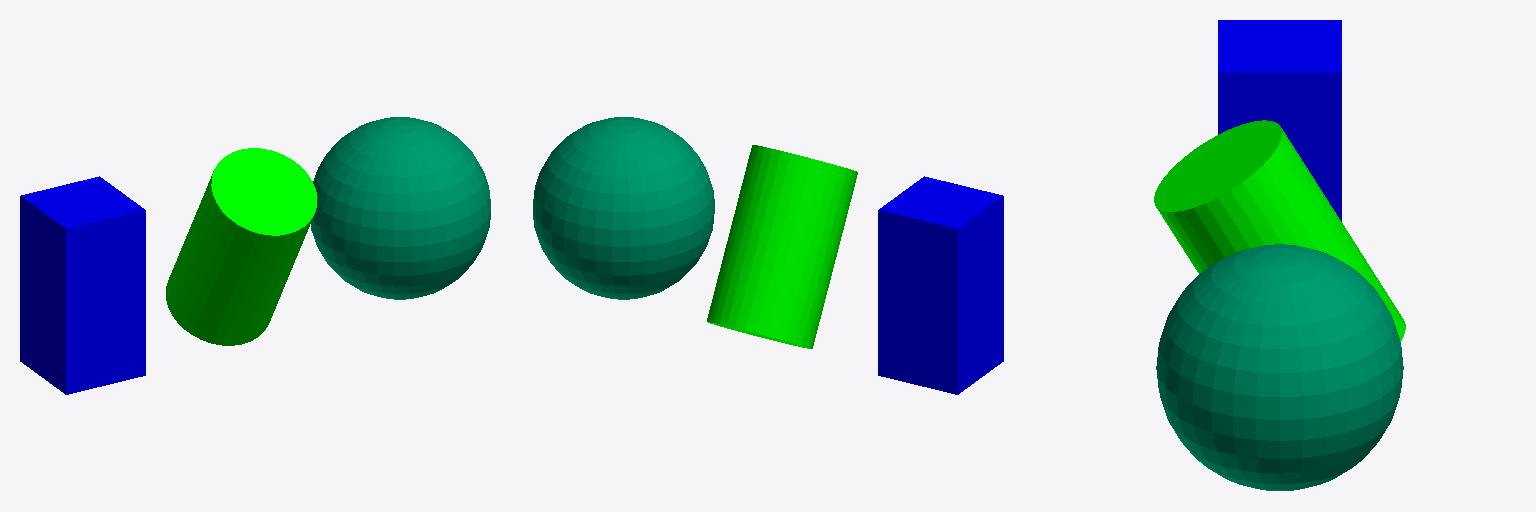
robot.urdf — simple-primitives:
<?xml version="1.0"?>
<!-- The robot name is used as the usd file name. -->
<!-- Since '-' cannot be used as a usd prim name, the prim name will be replaced. -->
<robot name="simple-primitives">
  <material name="blue">
    <color rgba="0.0 0.0 1.0 1.0"/>
  </material>
  <material name="green">
    <color rgba="0.0 1.0 0.0 1.0"/>
  </material>

  <link name="link_box">
    <inertial>
      <origin xyz="0 0 0" rpy="0 0 0"/>
      <mass value="0.8"/>
      <inertia ixx="0.0" ixy="0.01" ixz="0.02" iyy="0.0" iyz="0.03" izz="0.0"/>
    </inertial>
    <visual>
      <origin rpy="0 0 0" xyz="-0.5 0 0.5"/>
      <geometry>
        <box size="0.5 0.5 1.0"/>
      </geometry>
      <material name="blue"/>
    </visual>
    <collision>
      <origin rpy="0 0 0" xyz="-0.5 0 0.5"/>
      <geometry>
        <box size="0.5 0.5 1.0"/>
      </geometry>
    </collision>
  </link>
  <link name="link_cylinder">
    <visual>
      <origin rpy="0.523598 0 0" xyz="0.5 0 0.5"/>
      <geometry>
        <cylinder radius="0.3" length="1.0"/>
      </geometry>
      <material name="green"/>
    </visual>
    <collision>
      <origin rpy="0.523598 0 0" xyz="0.5 0 0.5"/>
      <geometry>
        <cylinder radius="0.3" length="1.0"/>
      </geometry>
    </collision>
  </link>
  <link name="link:sphere"> <!-- ':' is not allowed in USD prim names -->
    <visual>
      <geometry>
        <sphere radius="0.5"/>
      </geometry>
    </visual>
  </link>

  <joint name="joint_box_cylinder" type="fixed">
    <parent link="link_box"/>
    <child link="link_cylinder"/>
  </joint>
  <joint name="joint_cylinder_sphere" type="fixed">
    <origin rpy="0 0 0" xyz="1.5 0 0.5"/>
    <parent link="link_cylinder"/>
    <child link="link:sphere"/>
    <calibration rising="0.0"/>
    <dynamics damping="0.01" friction="0.02"/>    
  </joint>
</robot>

--- Facts derived from the render (not from the file) ---
The picture shows the robot from 3 angles, left to right: view 1: azimuth 30°, elevation 25°; view 2: azimuth 150°, elevation 25°; view 3: azimuth 270°, elevation 25°; orthographic projection.
Model simple-primitives with 3 links and 2 joints (2 fixed), rooted at link_box, posed every joint at zero.
Visible links, largest first — view 1: link:sphere, link_box, link_cylinder; view 2: link:sphere, link_box, link_cylinder; view 3: link:sphere, link_cylinder, link_box.
Boxes of the visible links, box(x1,y1,x2,y2) form: link:sphere: box(311, 117, 490, 299); link_box: box(20, 176, 145, 394); link_cylinder: box(166, 148, 317, 345); link:sphere: box(533, 117, 714, 299); link_box: box(878, 176, 1003, 394); link_cylinder: box(707, 145, 857, 348); link:sphere: box(1156, 244, 1403, 490); link_cylinder: box(1154, 120, 1405, 341); link_box: box(1218, 20, 1341, 221).
Size in the robot's own frame: 2.75 by 1.02 by 1.17 metres.
Geometry: primitives only (box / cylinder / sphere), no mesh files.